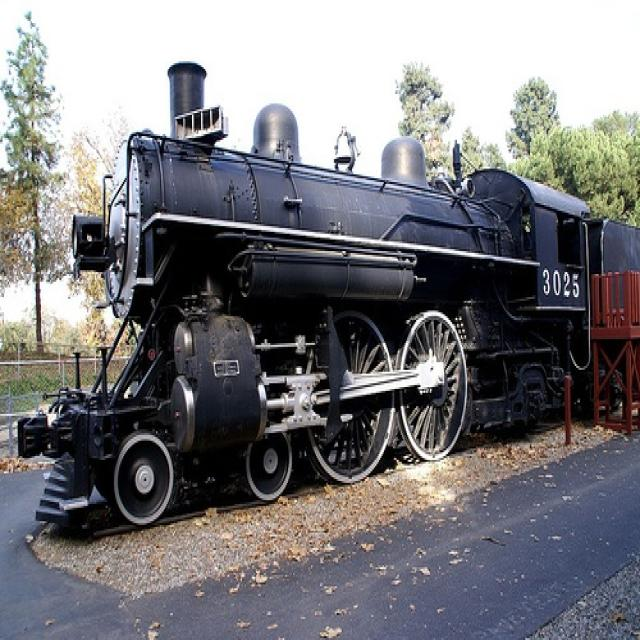train: (18, 63, 640, 542)
